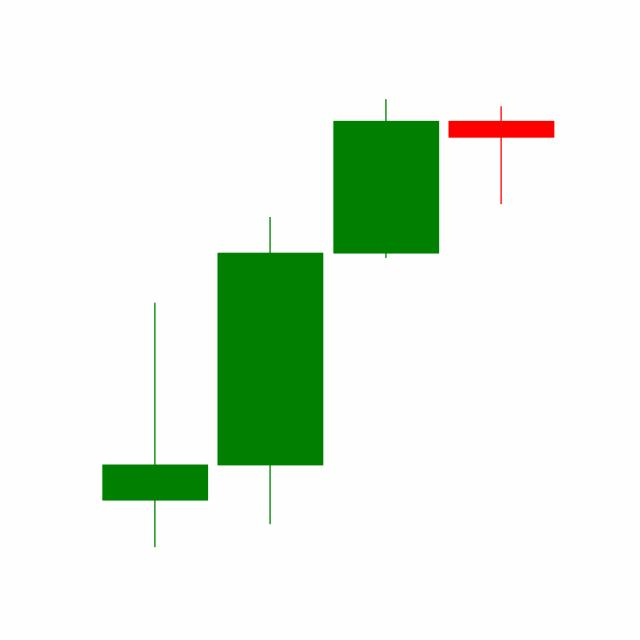Hanging Man: (443, 104, 559, 205)
